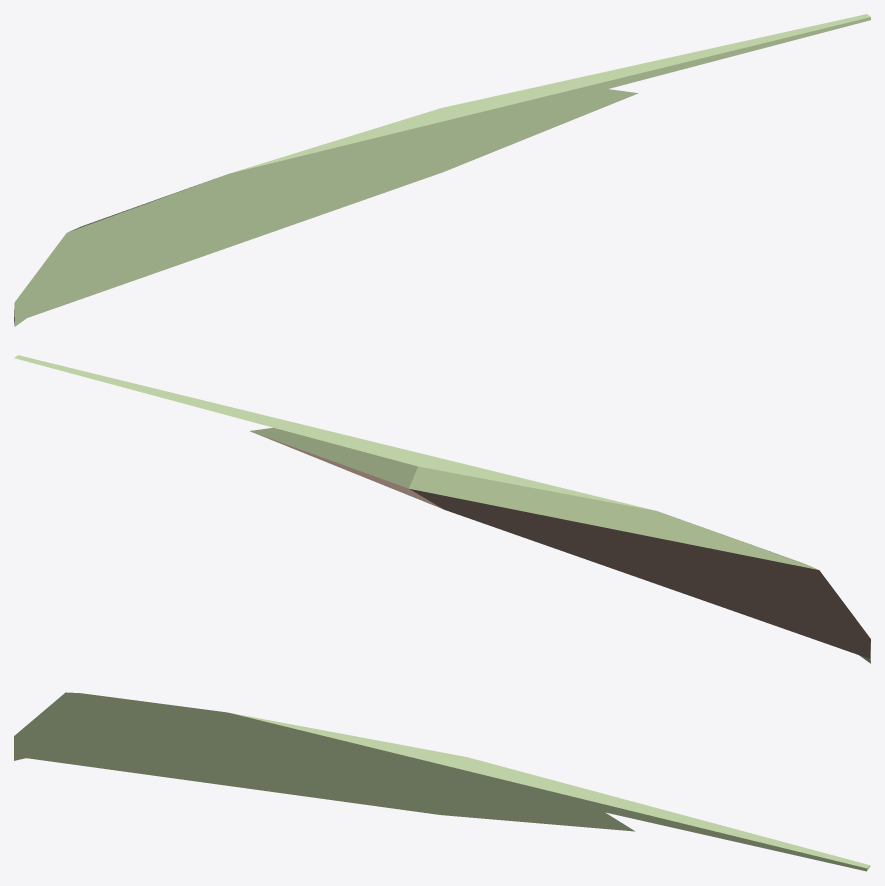
Rendered from chunk_0_1.glb.
The picture shows the model from 3 angles, top to bottom: view 1: azimuth 30°, elevation 25°; view 2: azimuth 150°, elevation 25°; view 3: azimuth 330°, elevation 25°; orthographic projection.
Visible parts, largest first — view 1: chunk_0_1_0; view 2: chunk_0_1_0; view 3: chunk_0_1_0.
Part boxes in pixels (x1,y1,x2,y2): chunk_0_1_0: (14,14,870,326); chunk_0_1_0: (14,355,870,663); chunk_0_1_0: (14,692,870,871).
Size of the model in its own units: 32 by 3.61 by 1.25.
